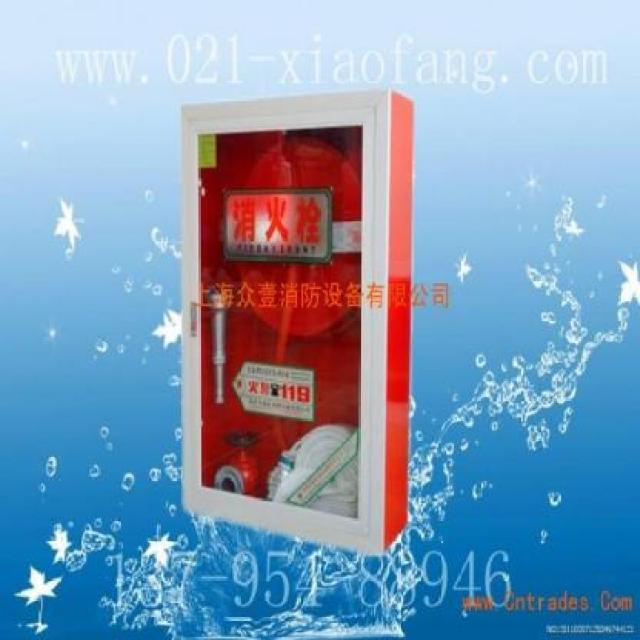firehydrant: (177, 82, 418, 560)
